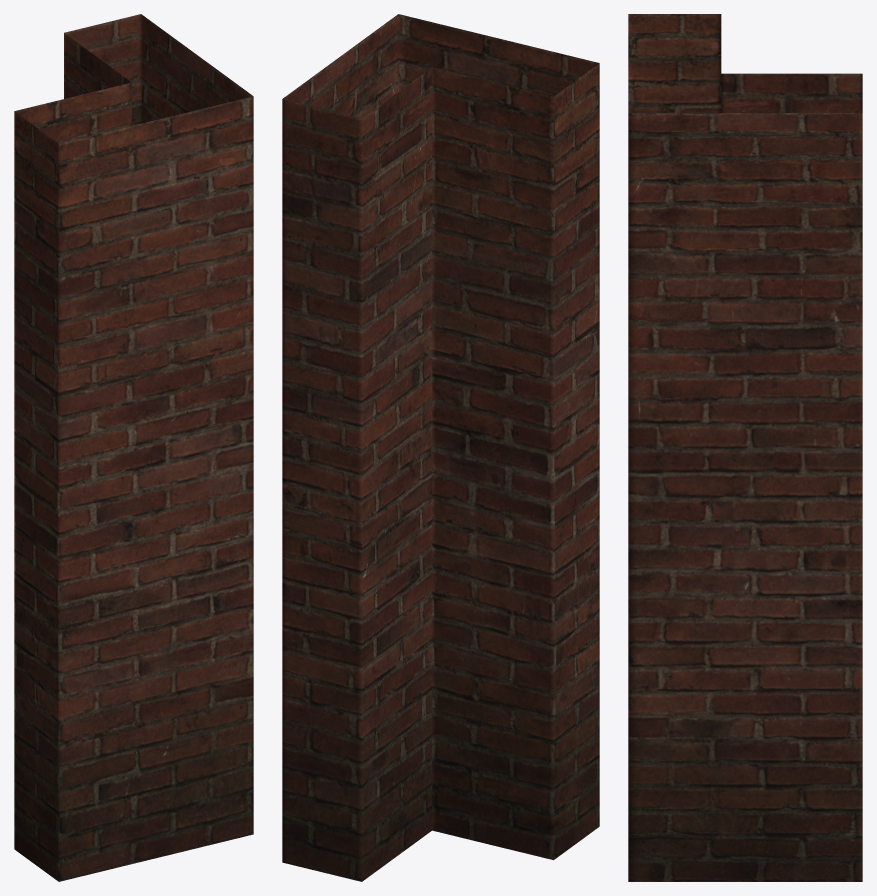
The model's file is wall_pillar_corner.fbx.
3 views of the same model, side by side, from view 1: azimuth 30°, elevation 25°; view 2: azimuth 150°, elevation 25°; view 3: azimuth 270°, elevation 25° (orthographic). The views are drawn at different scales.
Parts seen in each view (by area): view 1: wall_pillar_corner; view 2: wall_pillar_corner; view 3: wall_pillar_corner.
Part boxes in pixels (x1,y1,x2,y2): wall_pillar_corner: (14,14,253,881); wall_pillar_corner: (282,14,599,881); wall_pillar_corner: (628,14,862,881).
Size of the model in its own units: 53 by 192 by 53.
